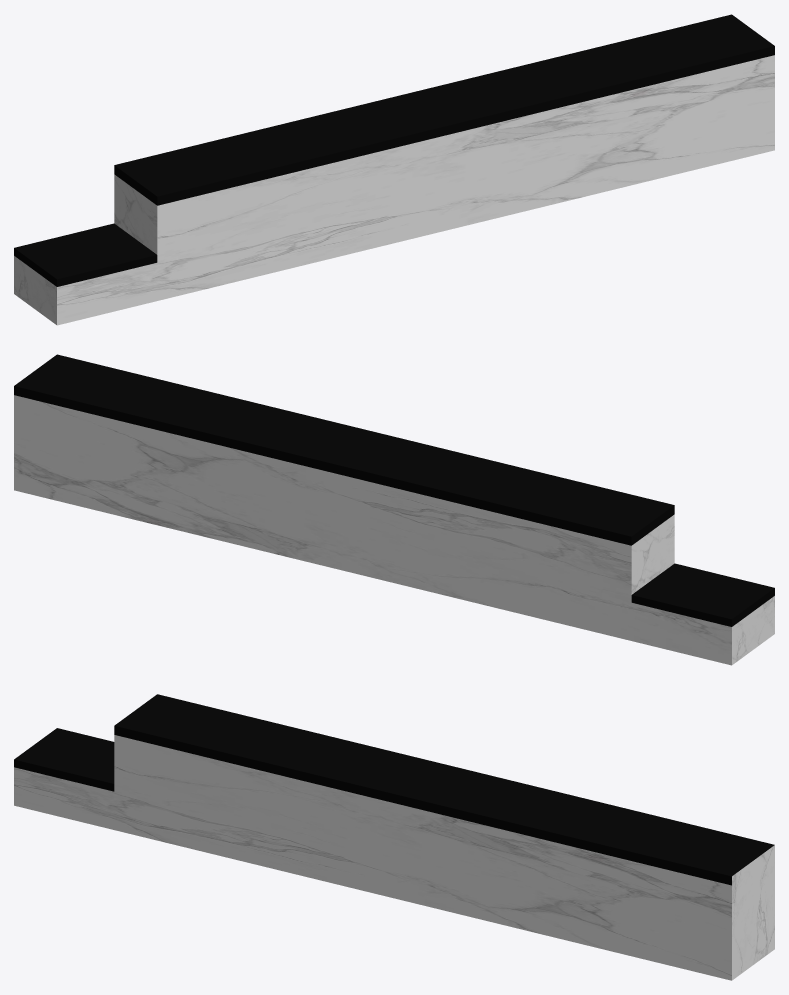
Rendered from cafe_desk.fbx.
The picture shows the model from 3 angles, top to bottom: view 1: azimuth 30°, elevation 25°; view 2: azimuth 150°, elevation 25°; view 3: azimuth 330°, elevation 25°; orthographic projection.
Visible parts, largest first — view 1: pCube31; view 2: pCube31; view 3: pCube31.
Boxes of the visible parts, x1,y1,x2,y2 form: pCube31: (14, 14, 774, 325); pCube31: (14, 354, 774, 665); pCube31: (14, 694, 774, 980).
Bounding box in the file's own units: 0.054 × 0.0075 × 0.00562.
Materials: 1 (1 with a texture image).
